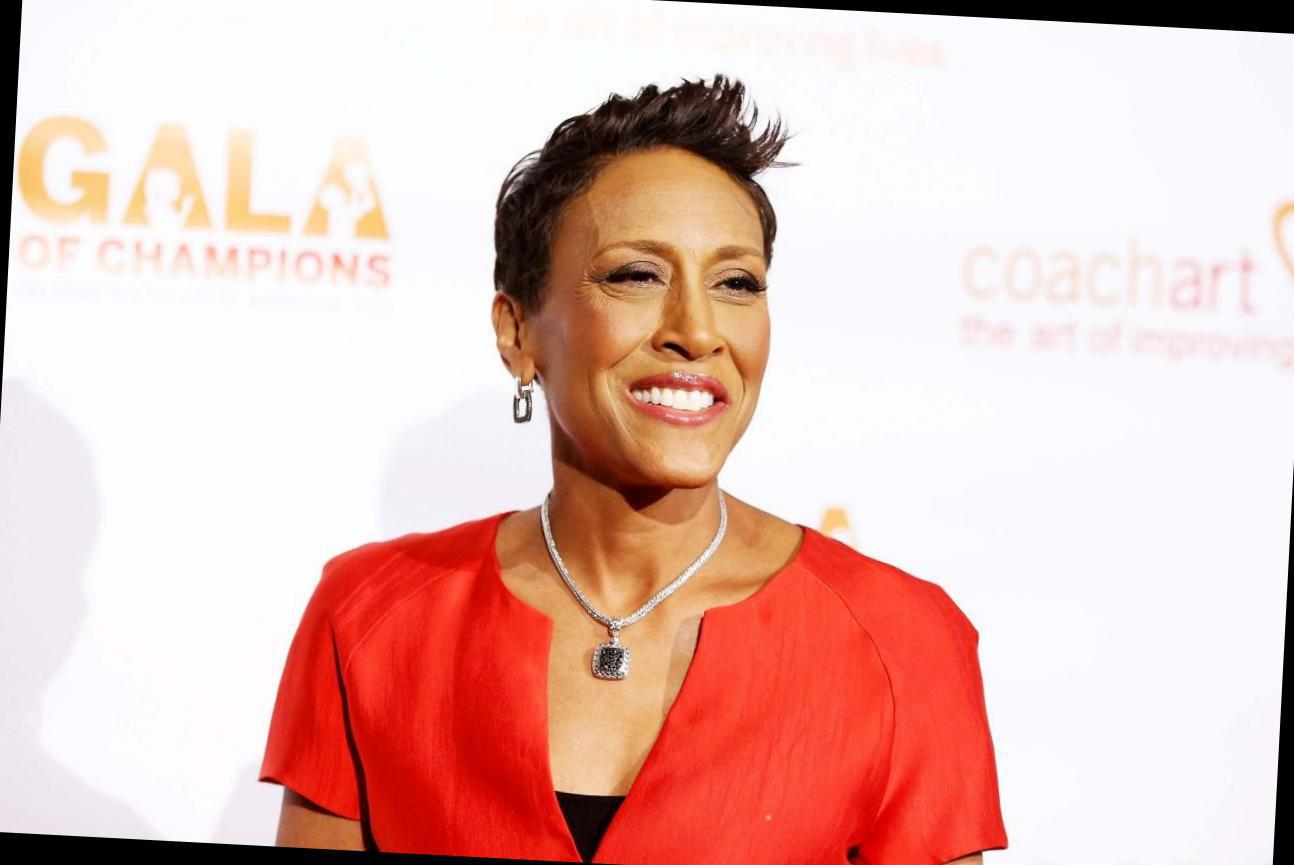Sober: (553, 164, 767, 478)
